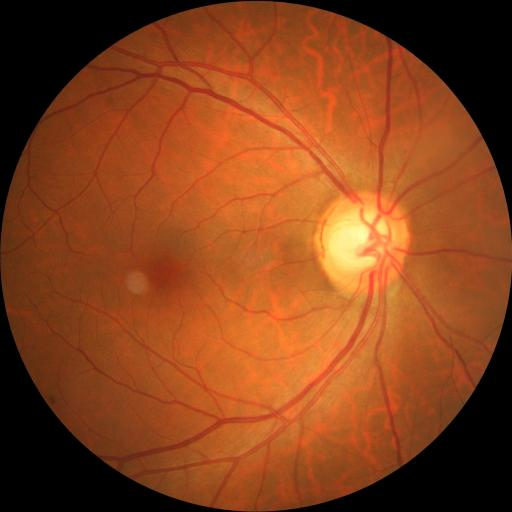Optic Cup: (327, 204, 394, 271)
Optic Disc: (314, 193, 410, 294)
